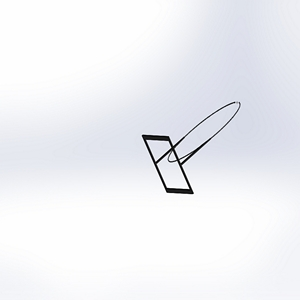circle: (138, 99, 240, 197)
